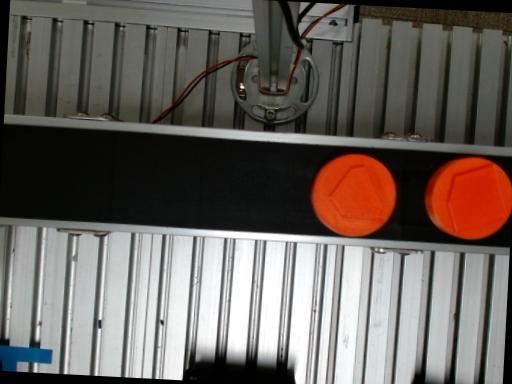Not_Square: (446, 165, 507, 233), (330, 165, 388, 218)
Orange_Waper: (425, 157, 512, 239), (311, 154, 395, 236)
